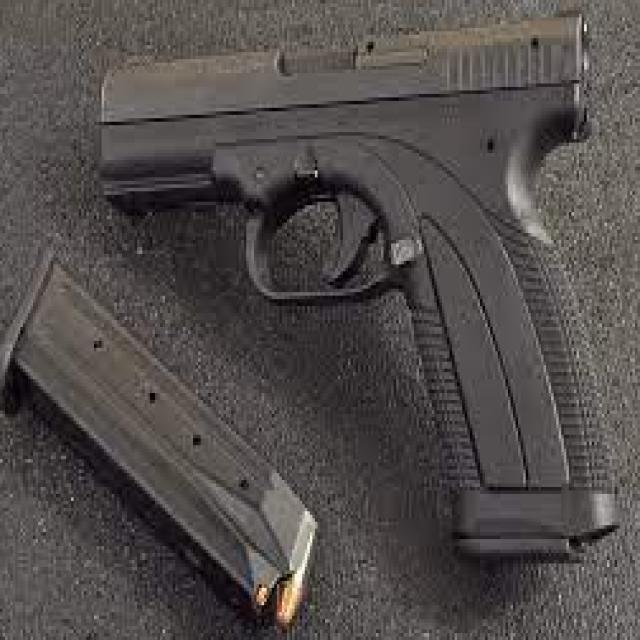Gun: (72, 0, 605, 570)
